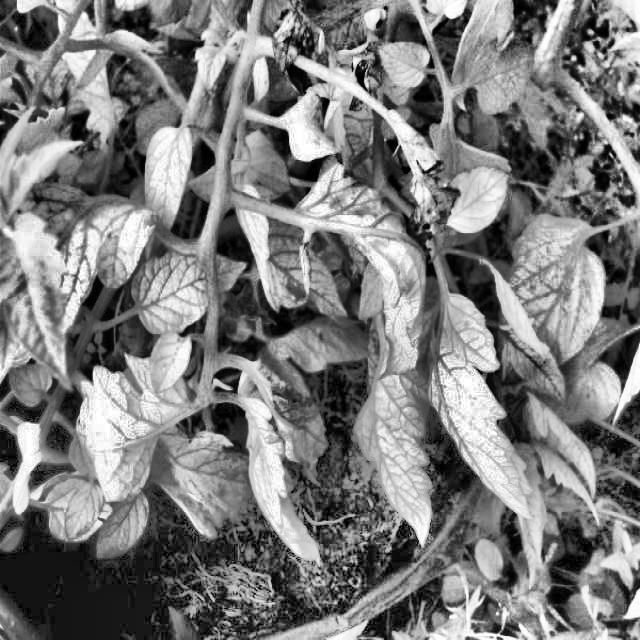plants: (18, 9, 490, 555)
